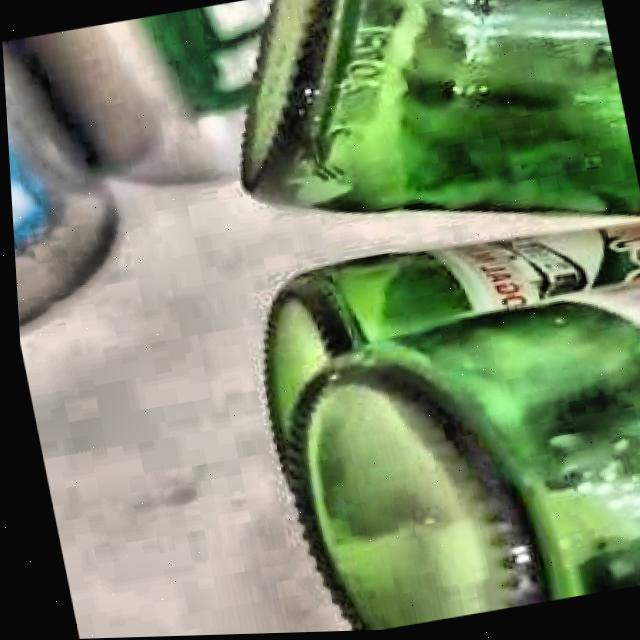glass: (259, 227, 640, 633), (240, 0, 640, 219)
